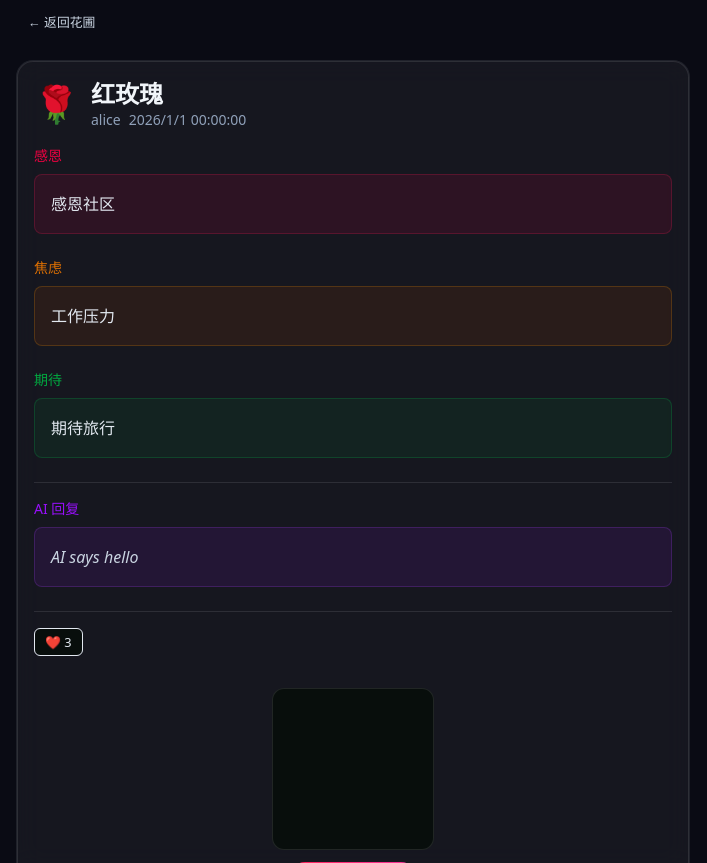
Test: RoseDetailPage › should toggle like
The width and height of the screenshot is (707, 863).
Click the button "❤️ 3". click: (58, 642)
box: [34, 628, 83, 656]
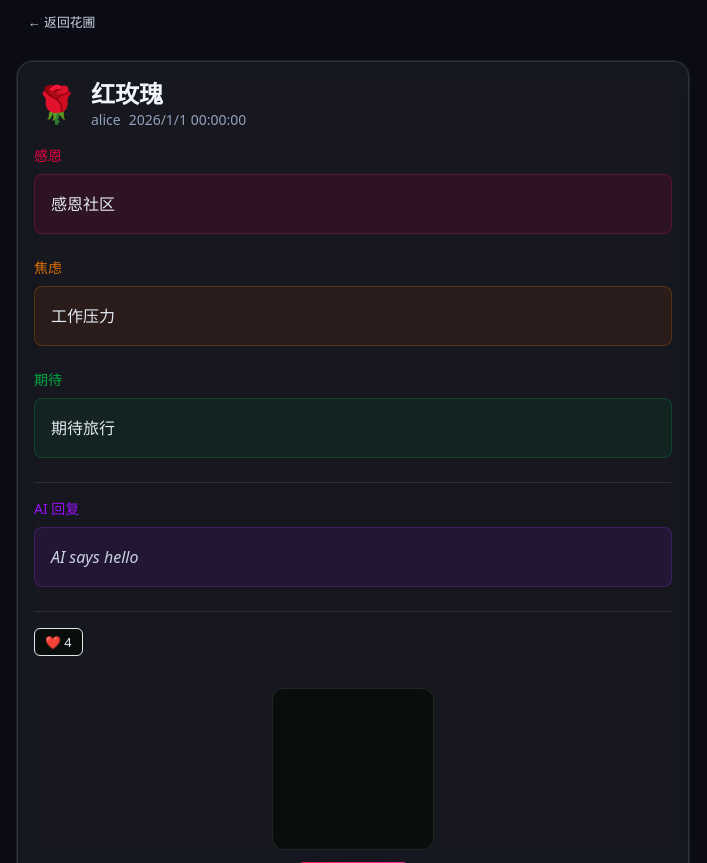
Result: the button "❤️ 4" is shown at [34, 628, 83, 656]
